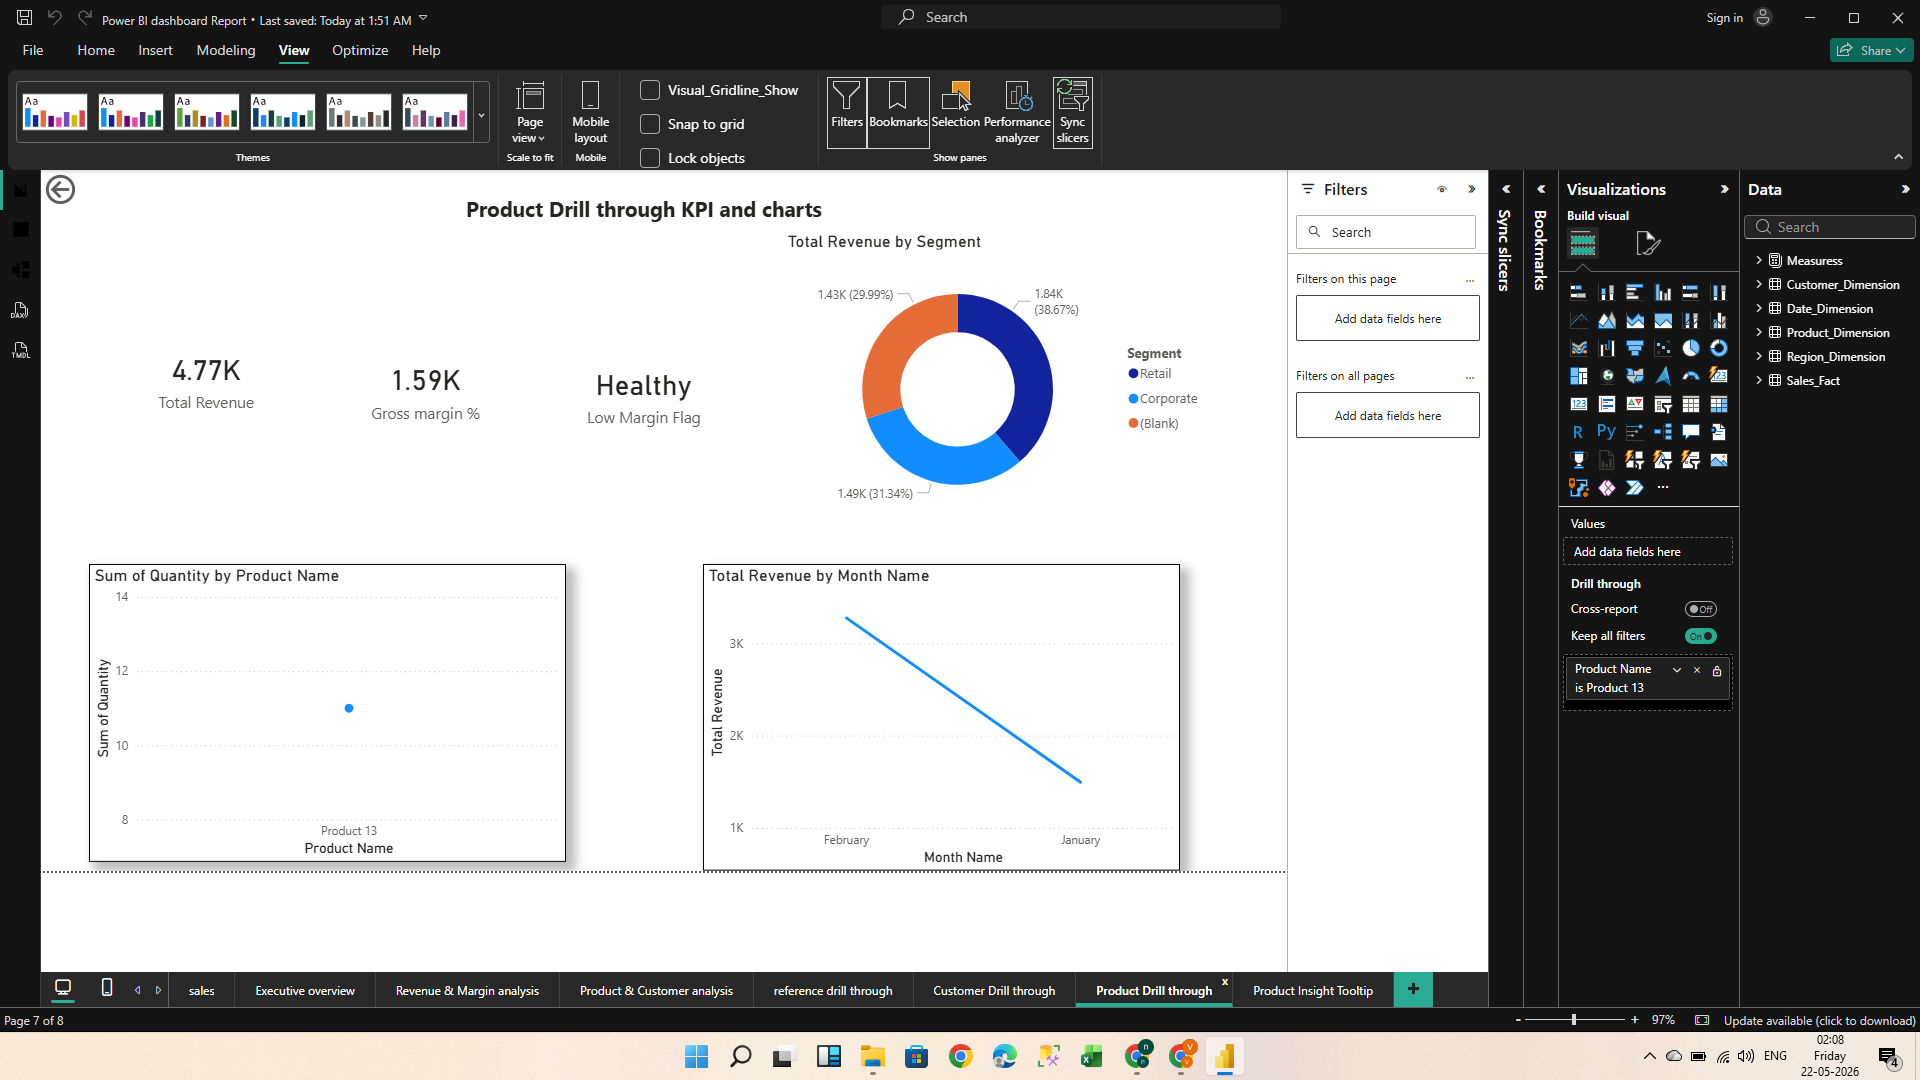

The dashboard page shown, as its layout file describes it:
{"tool":"powerbi","page":{"name":"Product Drill through","canvas":[1280,720],"ordinal":6},"visuals":[{"type":"actionButton","box":[0,0,100,40],"z":0},{"type":"textbox","box":[369.6,20.4,499,68.1],"z":1000},{"type":"card","fields":{"Values":["Measuress.Total Revenue"]},"box":[19.5,156.6,300.5,115.7],"z":2000},{"type":"card","fields":{"Values":["Measuress.Gross margin %"]},"box":[273.3,178,243.2,94.3],"z":3000},{"type":"lineChart","fields":{"Category":["Product_Dimension.Product Name"],"Y":["Sum(Sales_Fact.Quantity)"]},"box":[49.6,404.6,490.2,306.4],"z":4000},{"type":"donutChart","fields":{"Y":["Measuress.Total Revenue"],"Category":["Customer_Dimension.Segment"]},"box":[762.6,62.2,440.6,306.4],"z":5000},{"type":"lineChart","fields":{"Category":["Date_Dimension.Month Name"],"Y":["Measuress.Total Revenue"]},"box":[679.9,404.6,490.2,315.1],"z":6000},{"type":"card","fields":{"Values":["Measuress.Low Margin Flag"]},"box":[535,186.7,168.3,85.6],"z":7000}]}

Visuals, with their boxes on the page's 1280x720 design canvas (x1, y1, x2, y2). These are canvas units, not pixel positions in the 1920x1080 screenshot, which may show the page scaled, cropped or inside an application window:
actionButton: Rect(0, 0, 100, 40)
textbox: Rect(370, 20, 869, 88)
card - Measuress.Total Revenue: Rect(20, 157, 320, 272)
card - Measuress.Gross margin %: Rect(273, 178, 516, 272)
lineChart - Product_Dimension.Product Name x Sum(Sales_Fact.Quantity): Rect(50, 405, 540, 711)
donutChart - Measuress.Total Revenue x Customer_Dimension.Segment: Rect(763, 62, 1203, 369)
lineChart - Date_Dimension.Month Name x Measuress.Total Revenue: Rect(680, 405, 1170, 720)
card - Measuress.Low Margin Flag: Rect(535, 187, 703, 272)
